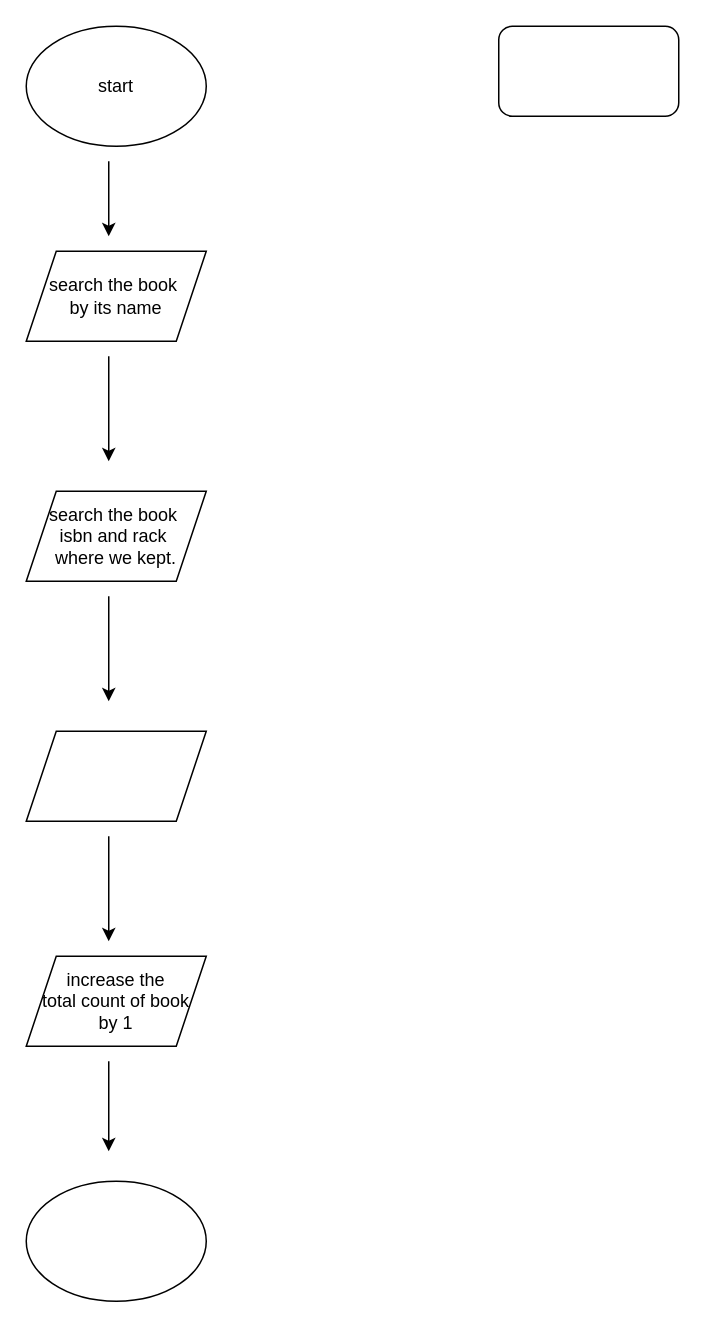
Image size: 705x1328. Some labels were removed from this diagram. Each missing label, with the centre of its shape:
add the book name in book list: pixel 115 775
end: pixel 115 1240
